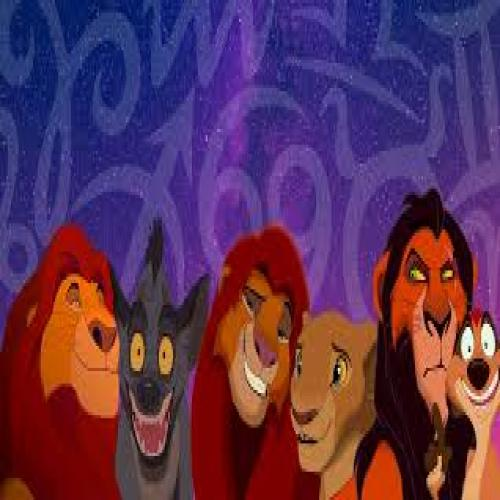lion-endangered: (354, 184, 484, 492), (189, 219, 320, 492), (5, 217, 123, 496), (289, 306, 380, 494)
